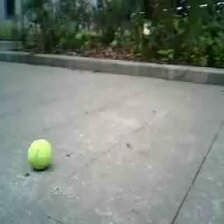tennis: (28, 140, 53, 168)
